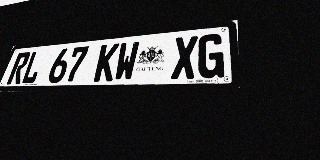6: (46, 48, 72, 83)
7: (63, 46, 89, 83)
G: (197, 33, 224, 79)
K: (93, 43, 120, 82)
L: (20, 50, 46, 84)
R: (6, 52, 31, 85)
W: (113, 41, 140, 81)
X: (171, 35, 198, 79)
